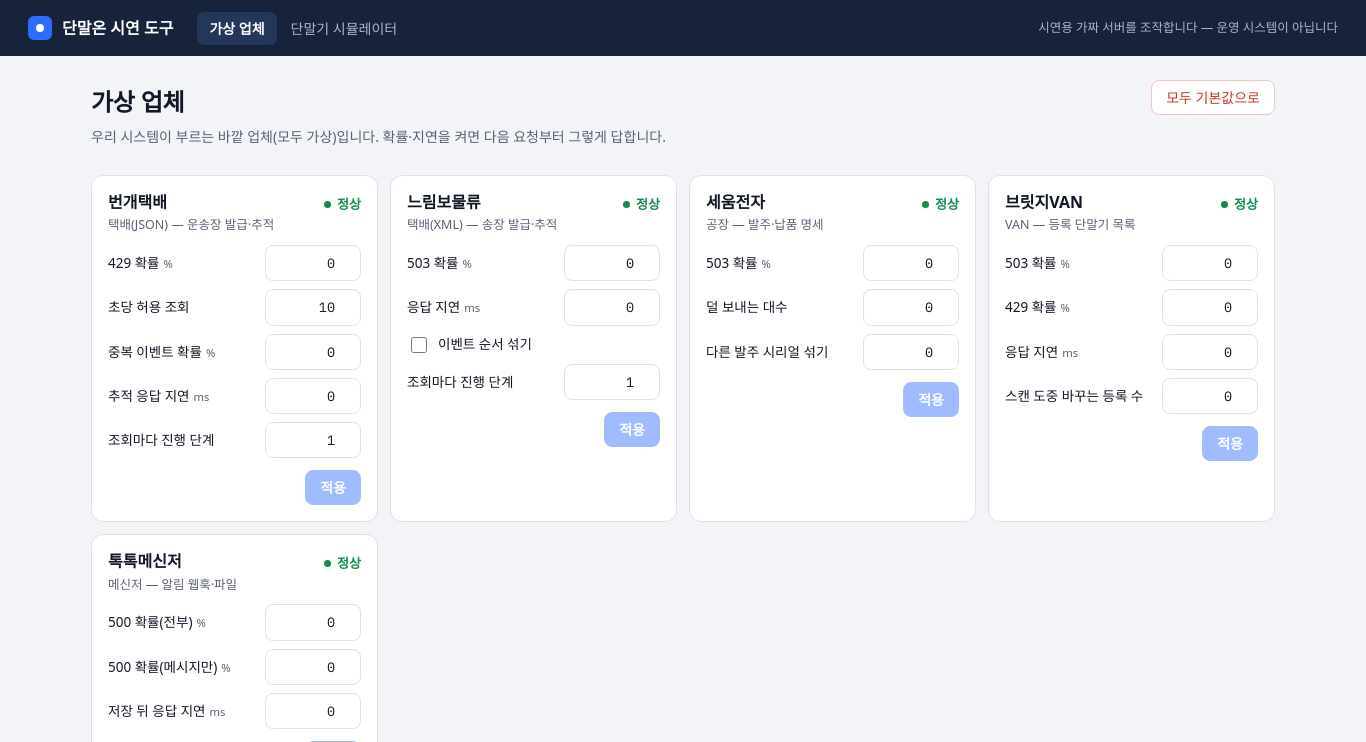
Test case: 가상 업체 화면 (보강 8) › 값을 바꿔 적용하면 그 업체의 바뀐 손잡이만 보낸다
Replace the text in the number field named "429 확률(%)" with "50" at (313, 263), box [265, 245, 361, 281]
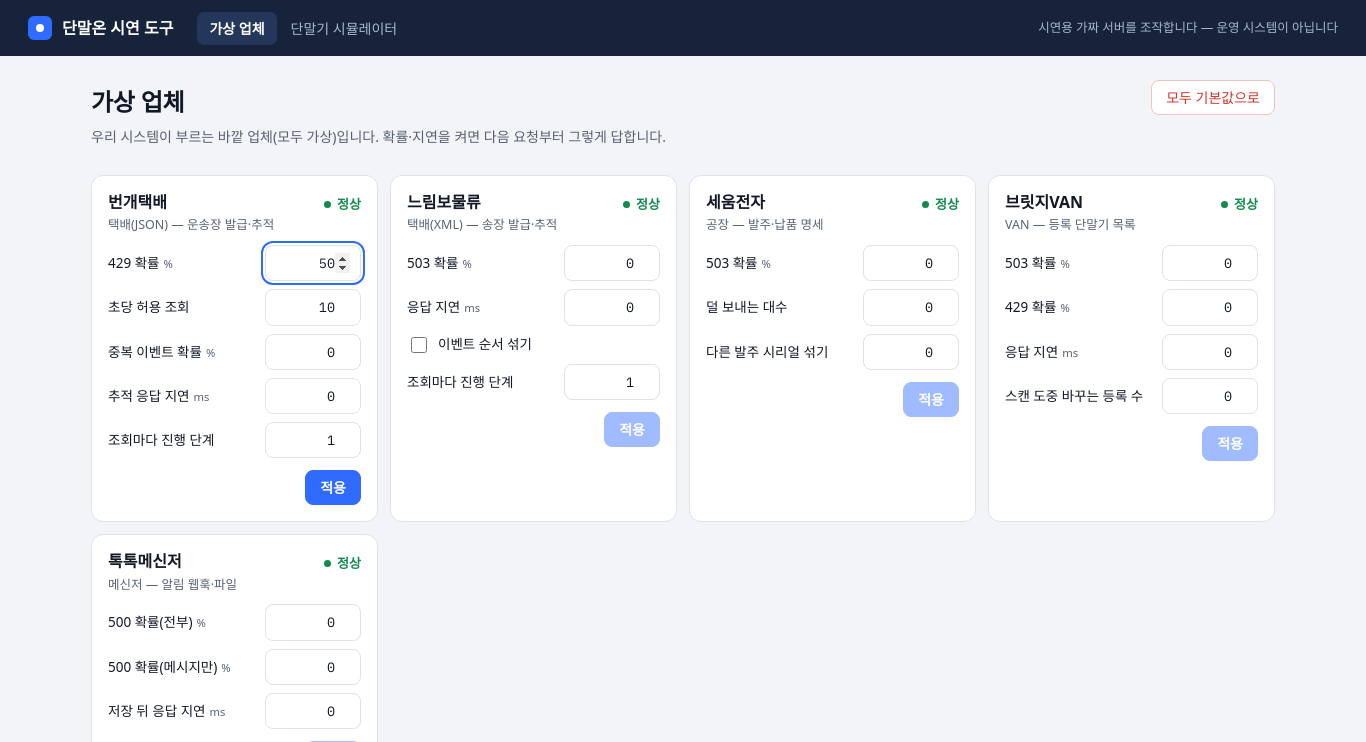
Replace the text in the number field named "추적 응답 지연(ms)" with "800" at (313, 396), box [265, 378, 361, 414]
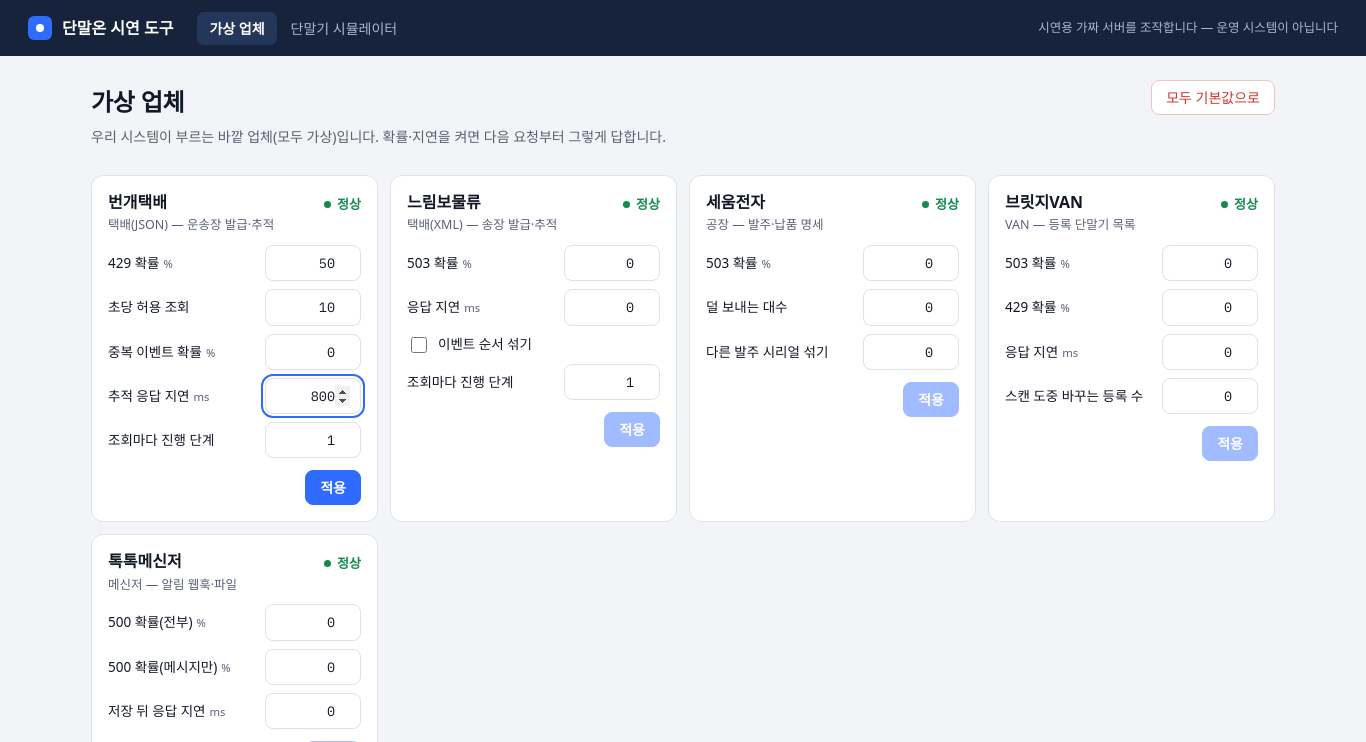
Click the button "적용" below "추적 응답 지연" at (333, 488), box [305, 470, 361, 505]
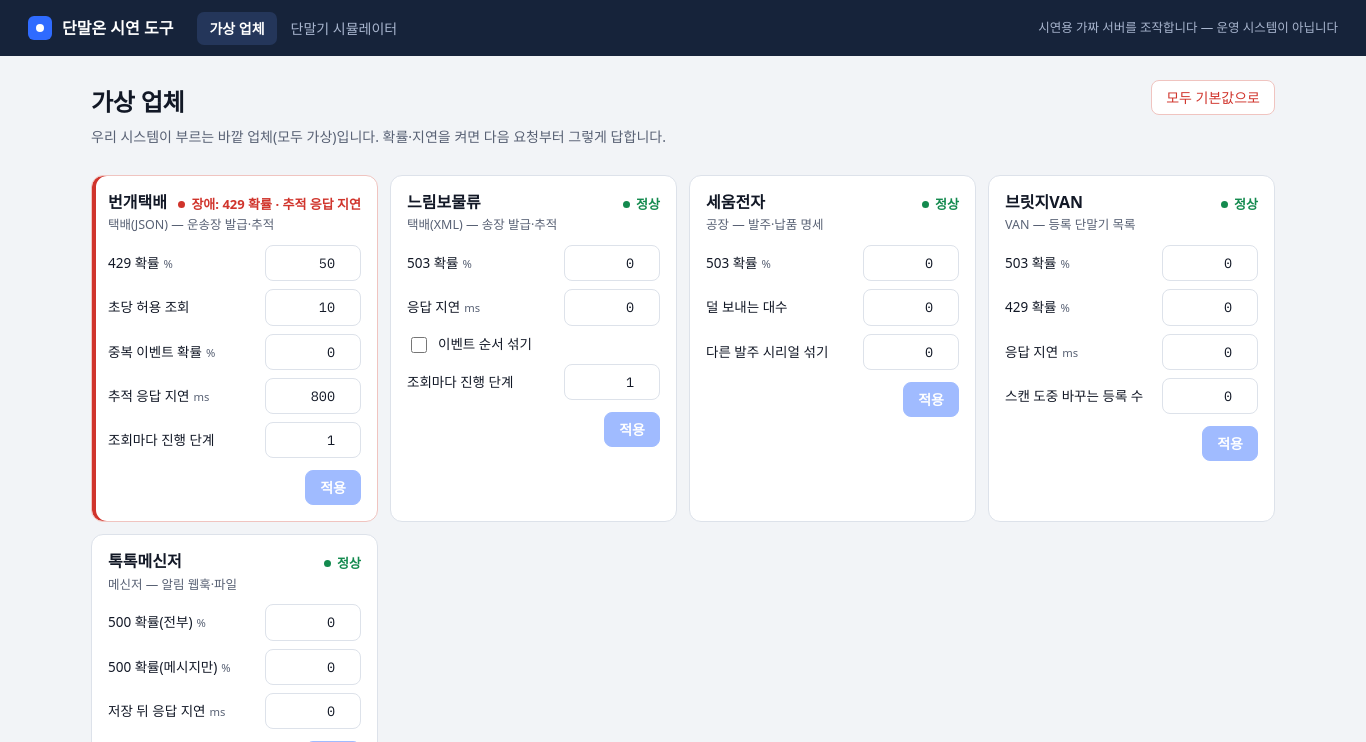
Now the number field named "429 확률(%)" holds "50", box [265, 245, 361, 281]
Now the text "장애: 429 확률 · 추적 응답 지연" is shown, box [178, 195, 361, 214]
